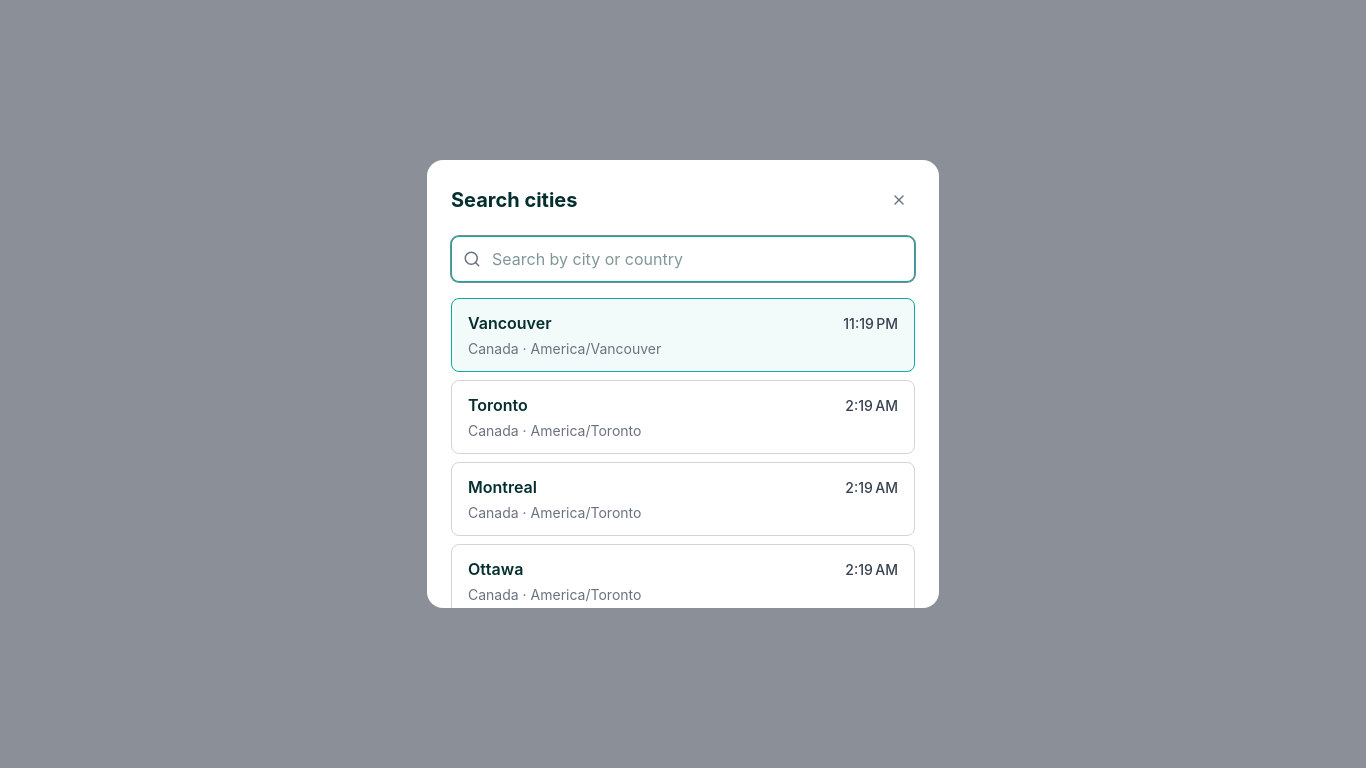
Test: CitySearchModal › shows a message when no cities match the search
The image size is (1366, 768).
Type "Atlantis" into the search field named "Search cities" at (683, 259), box [451, 236, 915, 282]
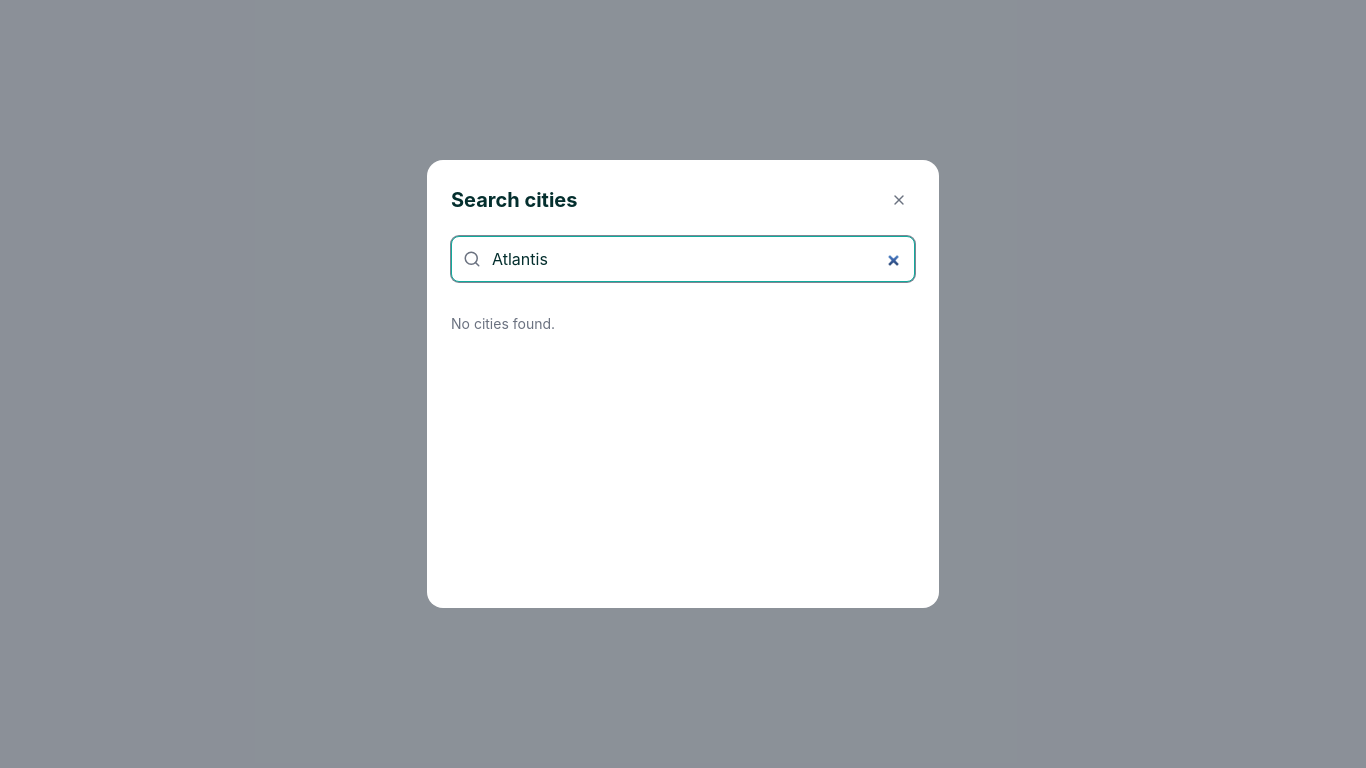
Result: the text "No cities found." is shown at [451, 315, 555, 332]
